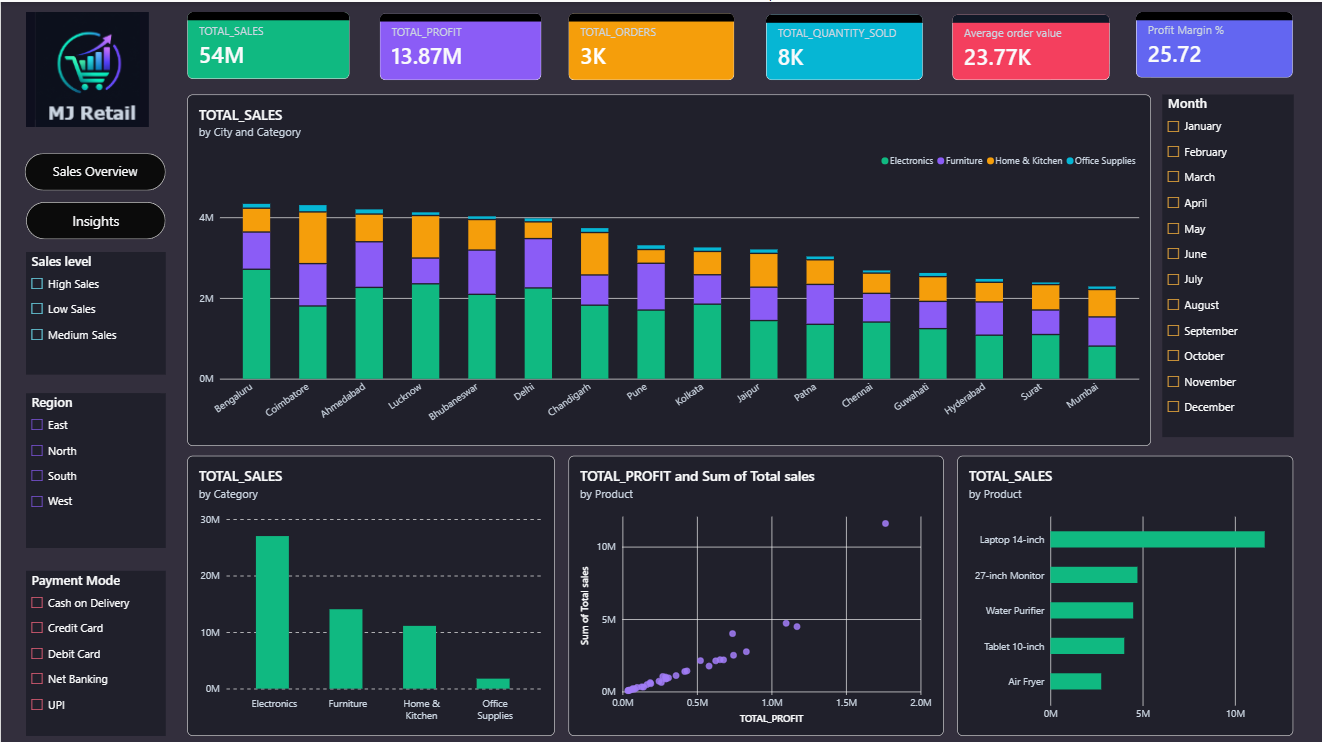

The page's visual inventory and layout, read from the dashboard file:
{"tool":"powerbi","page":{"name":"Product Analysis","canvas":[1920,1080],"ordinal":1},"visuals":[{"type":"clusteredBarChart","fields":{"Category":["Sales.Product"],"Y":["Sales.TOTAL_SALES"]},"box":[1384.4,656.9,486.8,405.4],"z":0},{"type":"columnChart","fields":{"Category":["Sales.Category"],"Y":["Sales.TOTAL_SALES"]},"box":[269.6,656.9,532,405.4],"z":1000},{"type":"columnChart","fields":{"Category":["Sales.City"],"Series":["Sales.Category"],"Y":["Sales.TOTAL_SALES"]},"box":[269.6,133.9,1395.2,508.5],"z":2000},{"type":"scatterChart","fields":{"Category":["Sales.Product"],"X":["Sales.TOTAL_PROFIT"],"Y":["Sum(Sales.Total sales)"]},"box":[821.6,656.9,542.9,405.4],"z":3000},{"type":"cardVisual","fields":{"Data":["Sales.TOTAL_SALES"]},"box":[269.6,14.5,235.3,97.7],"z":4000},{"type":"cardVisual","title":"totalprofit","fields":{"Data":["Sales.TOTAL_PROFIT"]},"box":[548.3,16.3,234.8,97.2],"z":5000},{"type":"cardVisual","fields":{"Data":["Sales.TOTAL_ORDERS"]},"box":[821.6,16.3,240.3,97.2],"z":6000},{"type":"cardVisual","fields":{"Data":["Sales.TOTAL_QUANTITY_SOLD"]},"box":[1107.5,18.1,227.4,95.4],"z":7000},{"type":"cardVisual","fields":{"Data":["Sales.Average order value"]},"box":[1377.2,18.1,228,95.9],"z":8000},{"type":"cardVisual","fields":{"Data":["Sales.Profit Margin %"]},"box":[1643.2,14.5,227.4,95.4],"z":9000},{"type":"slicer","fields":{"Values":["Sales.Order_Date.Variation.Date Hierarchy.Month"]},"box":[1681.2,133.9,190,495.8],"z":10000},{"type":"slicer","fields":{"Values":["Sales.Region"]},"box":[36.2,566.4,202.7,224.4],"z":11000},{"type":"slicer","fields":{"Values":["Sales.Sales level"]},"box":[36.2,361.9,202.7,177.3],"z":12000},{"type":"slicer","fields":{"Values":["Sales.Payment_Mode"]},"box":[36.2,823.4,202.7,238.9],"z":13000},{"type":"pageNavigator","box":[36.2,289.5,202.7,54.3],"z":14000},{"type":"pageNavigator","box":[34.4,219,204.5,54.3],"z":15000},{"type":"image","box":[36.2,14.5,177.3,166.5],"z":15001}]}

Visuals, with their boxes in screenshot pixels (x1, y1, x2, y2), scaled from the page's 1920x1080 canvas onto the 1322x742 screenshot:
clusteredBarChart - Sales.Product x Sales.TOTAL_SALES: bbox=(953, 451, 1288, 730)
columnChart - Sales.Category x Sales.TOTAL_SALES: bbox=(186, 451, 552, 730)
columnChart - Sales.City x Sales.Category: bbox=(186, 92, 1146, 441)
scatterChart - Sales.Product x Sales.TOTAL_PROFIT: bbox=(566, 451, 940, 730)
cardVisual - Sales.TOTAL_SALES: bbox=(186, 10, 348, 77)
"totalprofit" cardVisual: bbox=(378, 11, 539, 78)
cardVisual - Sales.TOTAL_ORDERS: bbox=(566, 11, 731, 78)
cardVisual - Sales.TOTAL_QUANTITY_SOLD: bbox=(763, 12, 919, 78)
cardVisual - Sales.Average order value: bbox=(948, 12, 1105, 78)
cardVisual - Sales.Profit Margin %: bbox=(1131, 10, 1288, 76)
slicer - Sales.Order_Date.Variation.Date Hierarchy.Month: bbox=(1158, 92, 1288, 433)
slicer - Sales.Region: bbox=(25, 389, 164, 543)
slicer - Sales.Sales level: bbox=(25, 249, 164, 370)
slicer - Sales.Payment_Mode: bbox=(25, 566, 164, 730)
pageNavigator: bbox=(25, 199, 164, 236)
pageNavigator: bbox=(24, 150, 164, 188)
image: bbox=(25, 10, 147, 124)
